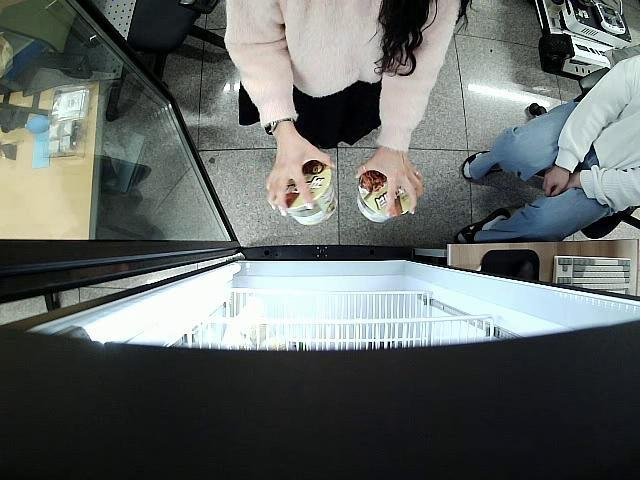03_chapagetti_L: (280, 160, 338, 226), (359, 169, 416, 224)
